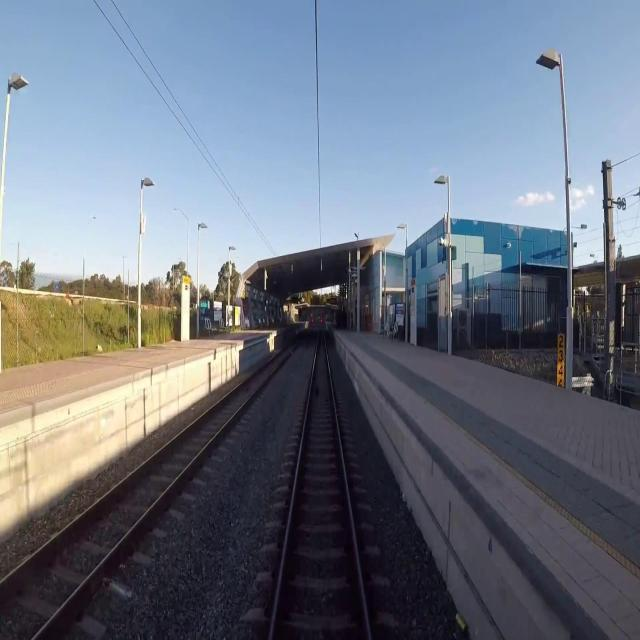rail-track: (0, 334, 302, 639), (273, 327, 368, 639)
